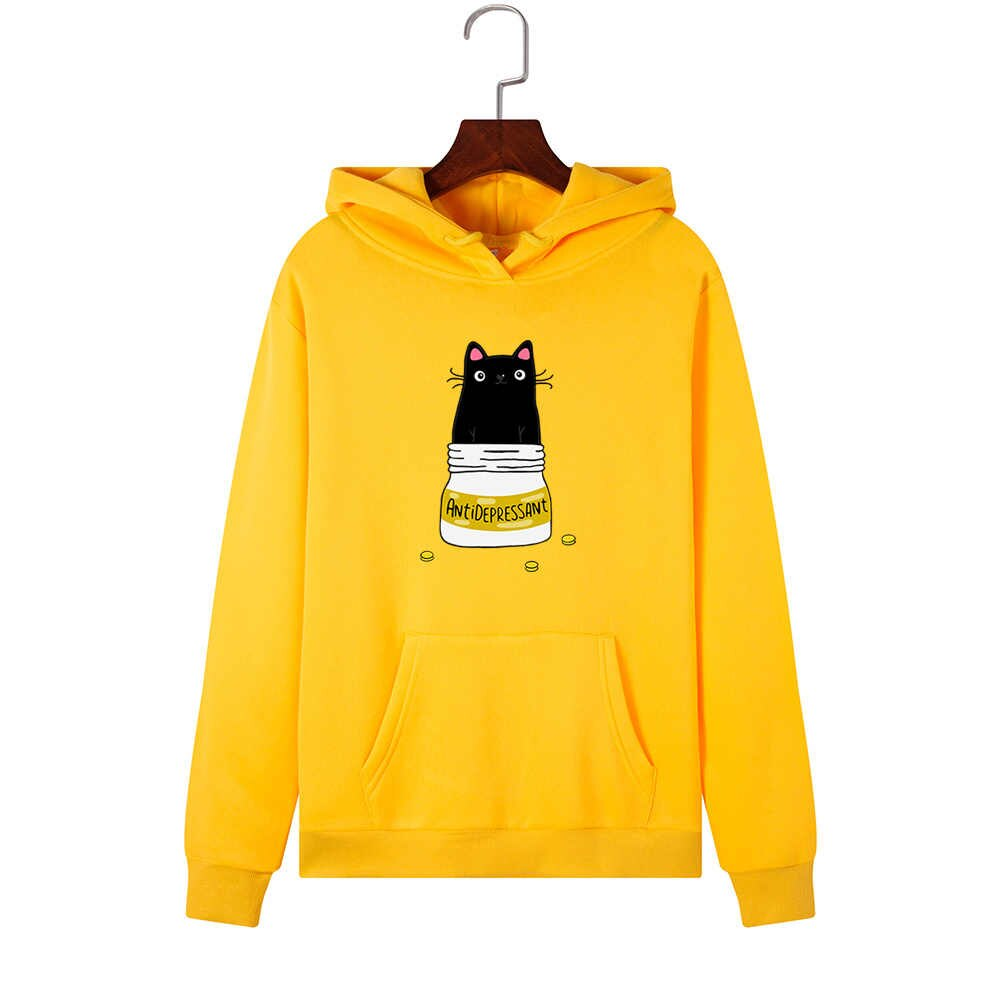cat: (438, 336, 563, 418)
